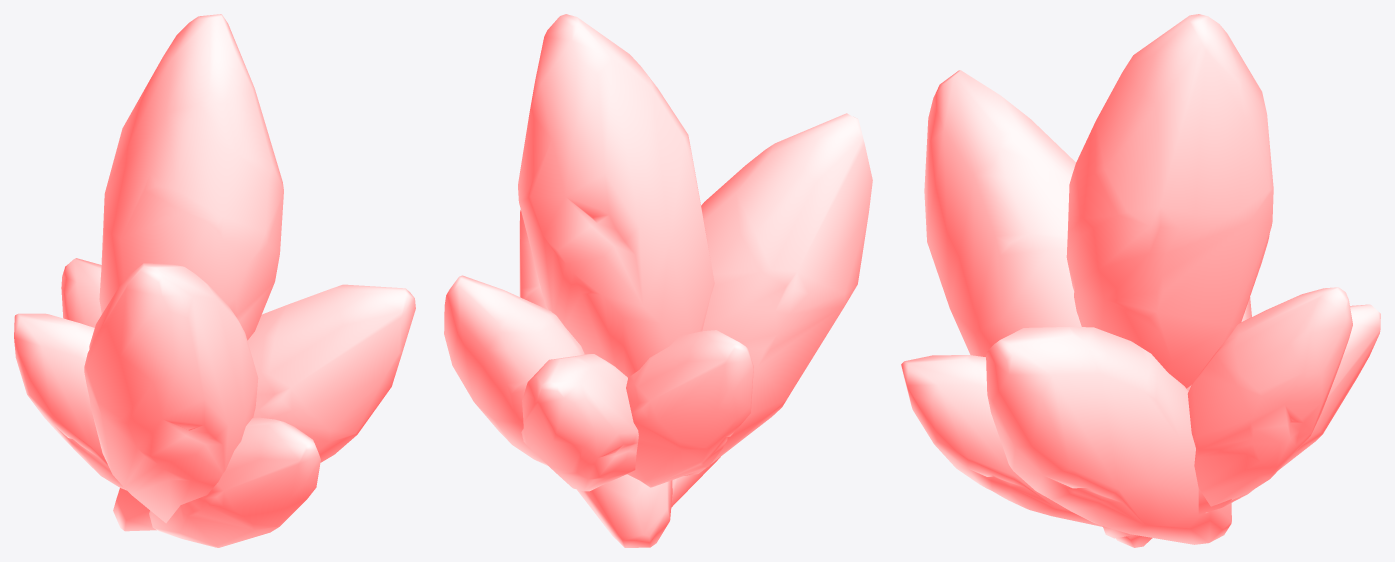
File: RedObject.fbx
3 renders of one model, left to right at view 1: azimuth 30°, elevation 25°; view 2: azimuth 150°, elevation 25°; view 3: azimuth 270°, elevation 25°, orthographic. The views are drawn at different scales.
Visible parts, largest first — view 1: BetterCrystal01, BetterCrystal01__1_, BetterCrystal01__4_, BetterCrystal01__6_, BetterCrystal01__3_, BetterCrystal01__2_; view 2: BetterCrystal01, BetterCrystal01__1_, BetterCrystal01__3_, BetterCrystal01__5_, BetterCrystal01__2_, BetterCrystal01__4_, BetterCrystal01__6_; view 3: BetterCrystal01, BetterCrystal01__4_, BetterCrystal01__1_, BetterCrystal01__5_, BetterCrystal01__6_, BetterCrystal01__2_.
Part boxes in pixels (box(x1,y1,x2,y2)): BetterCrystal01: box(99, 14, 283, 340); BetterCrystal01__1_: box(84, 263, 258, 523); BetterCrystal01__4_: box(113, 284, 415, 531); BetterCrystal01__6_: box(149, 417, 320, 547); BetterCrystal01__3_: box(14, 313, 126, 490); BetterCrystal01__2_: box(61, 258, 101, 327); BetterCrystal01: box(518, 14, 714, 377); BetterCrystal01__1_: box(684, 113, 872, 475); BetterCrystal01__3_: box(626, 330, 753, 487); BetterCrystal01__5_: box(444, 275, 584, 465); BetterCrystal01__2_: box(521, 354, 638, 491); BetterCrystal01__4_: box(519, 210, 672, 547); BetterCrystal01__6_: box(671, 457, 720, 507); BetterCrystal01: box(1066, 14, 1273, 388); BetterCrystal01__4_: box(986, 327, 1231, 544); BetterCrystal01__1_: box(924, 70, 1081, 356); BetterCrystal01__5_: box(1187, 287, 1352, 512); BetterCrystal01__6_: box(901, 355, 1102, 526); BetterCrystal01__2_: box(1102, 304, 1380, 538).
Bounding box in the file's own units: 303 × 458 × 359.
